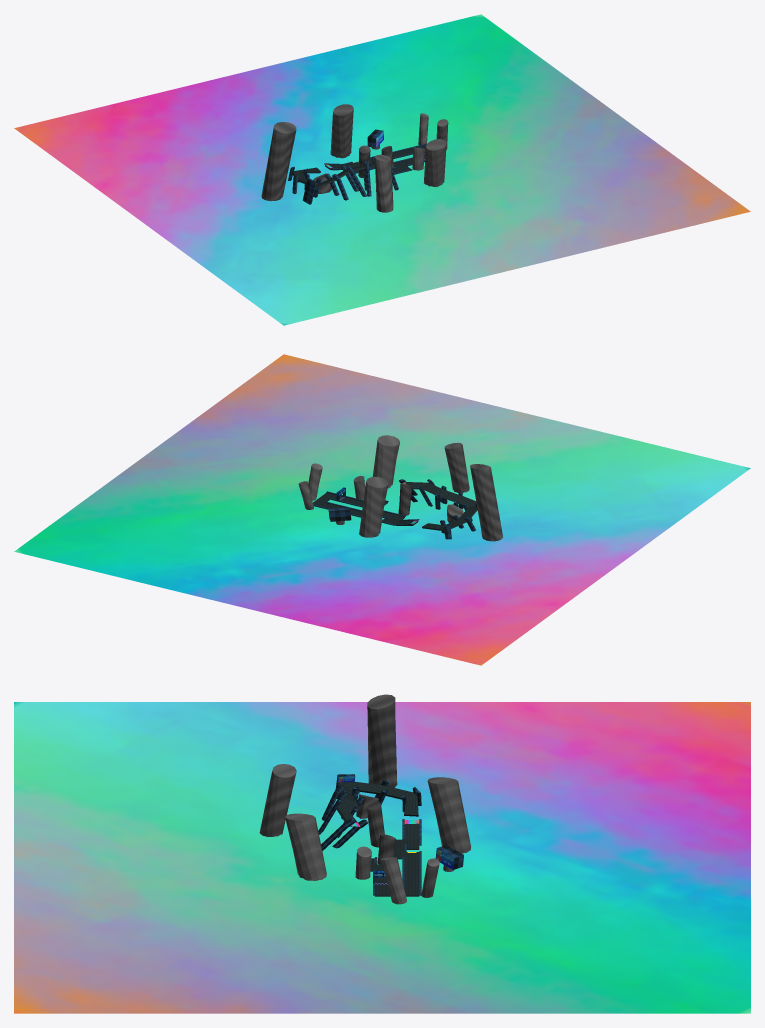
The picture shows the model from 3 angles, top to bottom: view 1: azimuth 30°, elevation 25°; view 2: azimuth 150°, elevation 25°; view 3: azimuth 270°, elevation 25°; orthographic projection. The views are drawn at different scales.
Parts seen in each view (by area): view 1: Glow, Pillars, Walls.001, Road.020; view 2: Glow, Pillars, Road.020, Walls.001; view 3: Glow, Pillars, Road.020, Walls.001.
Part boxes in pixels (bbox=[...]): Glow: bbox=[14, 14, 750, 325]; Pillars: bbox=[261, 104, 448, 212]; Walls.001: bbox=[288, 129, 426, 204]; Road.020: bbox=[292, 145, 426, 188]; Glow: bbox=[14, 354, 750, 665]; Pillars: bbox=[298, 435, 503, 541]; Road.020: bbox=[313, 482, 477, 530]; Walls.001: bbox=[313, 479, 477, 539]; Glow: bbox=[14, 702, 750, 1013]; Pillars: bbox=[259, 694, 470, 904]; Road.020: bbox=[336, 781, 419, 896]; Walls.001: bbox=[318, 774, 463, 895].
Size of the model in its own units: 206572 by 41823 by 206572.
Materials: 9 (9 with a texture image).
